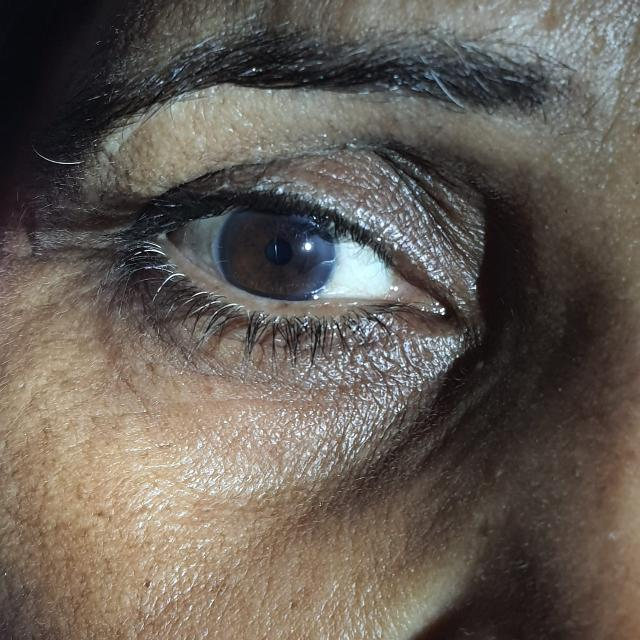eye: (218, 200, 339, 302)
